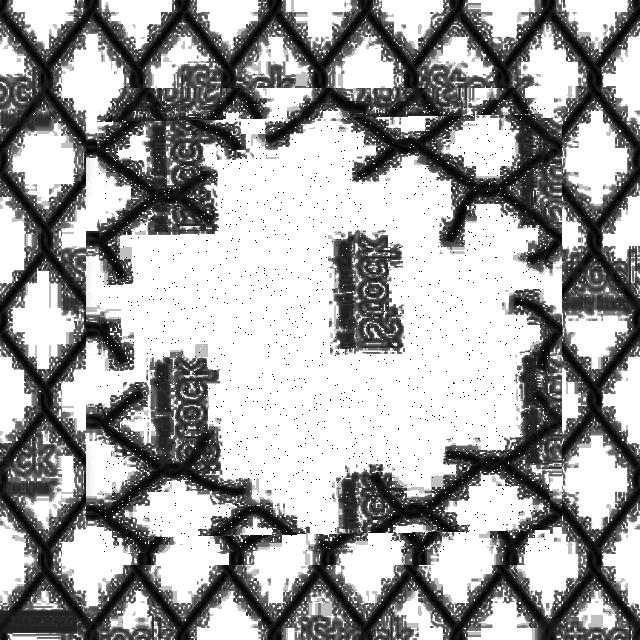anomaly-fence: (99, 101, 549, 552)
